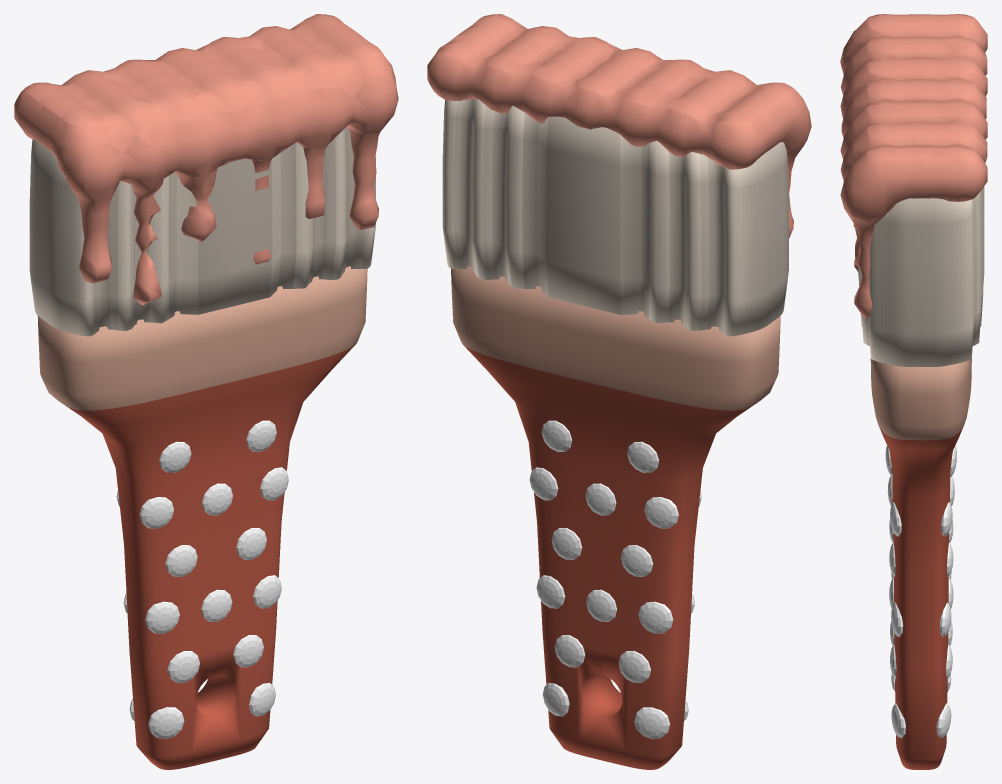
File: Paintbrush_Shroom.glb
The picture shows the model from 3 angles, left to right: view 1: azimuth 30°, elevation 25°; view 2: azimuth 150°, elevation 25°; view 3: azimuth 270°, elevation 25°; orthographic projection. The views are drawn at different scales.
Parts seen in each view (by area): view 1: Body, Paint, Bristles; view 2: Body, Bristles, Paint; view 3: Paint, Body, Bristles.
Boxes of the visible parts, x1,y1,x2,y2 form: Body: (37,266,367,769); Paint: (14,14,398,305); Bristles: (29,127,375,336); Body: (451,266,780,769); Bristles: (442,98,788,336); Paint: (427,14,811,238); Paint: (840,14,987,318); Body: (870,358,971,769); Bristles: (858,186,984,366).
Size of the model in its own units: 1.23 by 2.44 by 0.4919.
